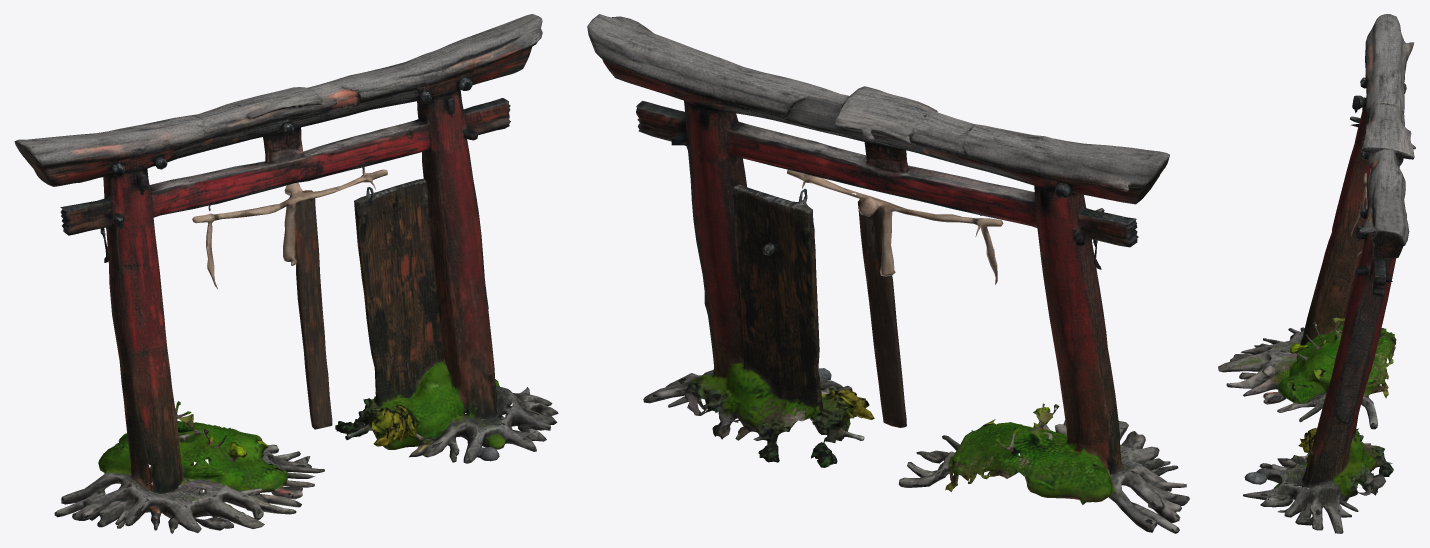
The model's file is torii.glb.
3 renders of one model, left to right at view 1: azimuth 30°, elevation 25°; view 2: azimuth 150°, elevation 25°; view 3: azimuth 270°, elevation 25°, orthographic. The views are drawn at different scales.
Size of the model in its own units: 0.9888 by 0.6632 by 0.3807.
1 material, 1 textured.
